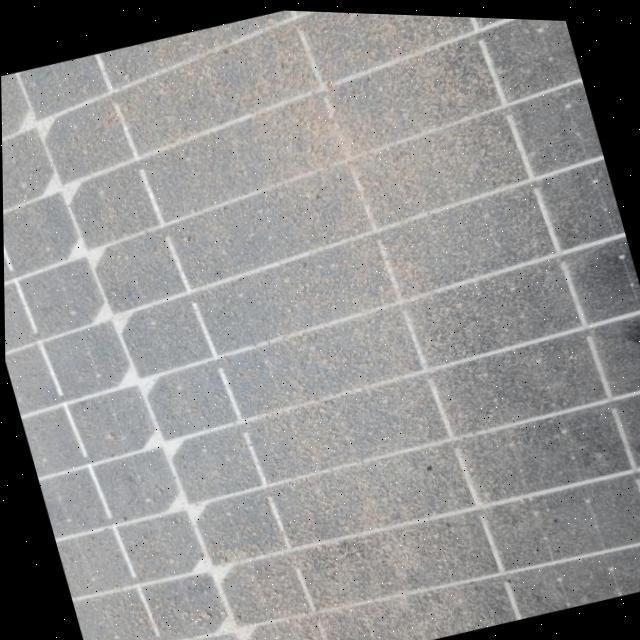Surface Contaminant: (4, 138, 640, 640)
